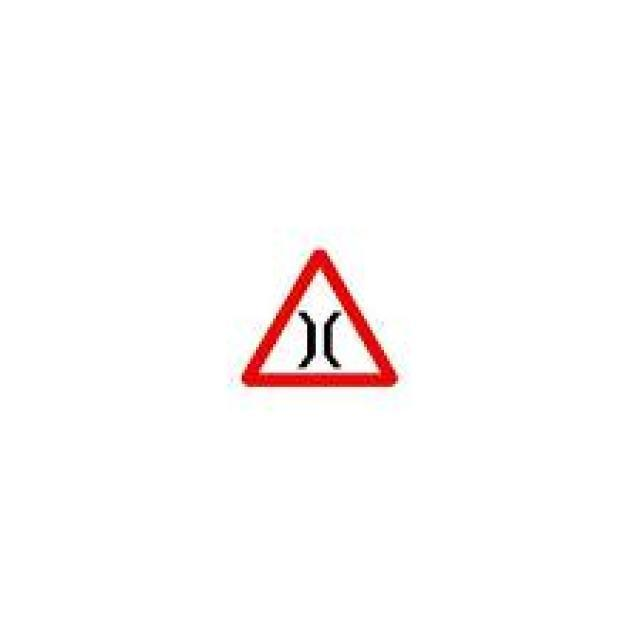narrow bridge ahead: (240, 247, 400, 388)
